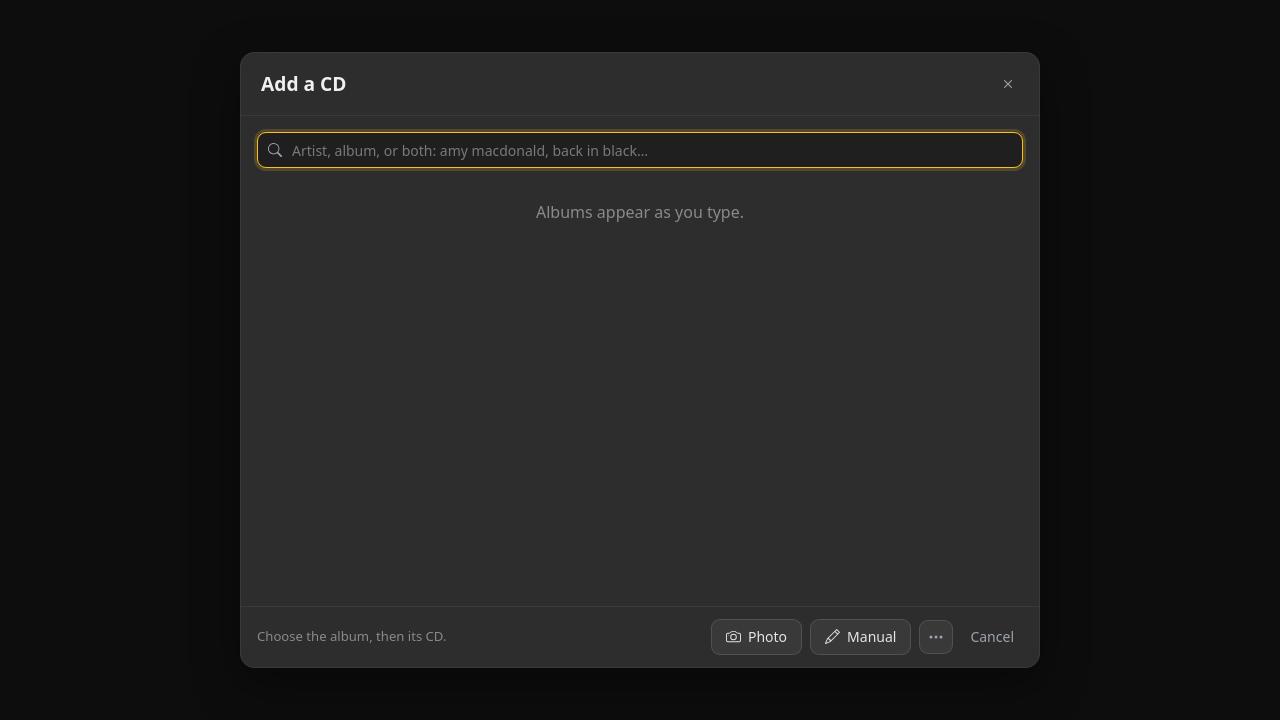
Scenario: AddMusicDialog — empty text search › tells the user when a search found nothing
Click the button named "other searches".
click(936, 637)  # box [919, 620, 953, 654]
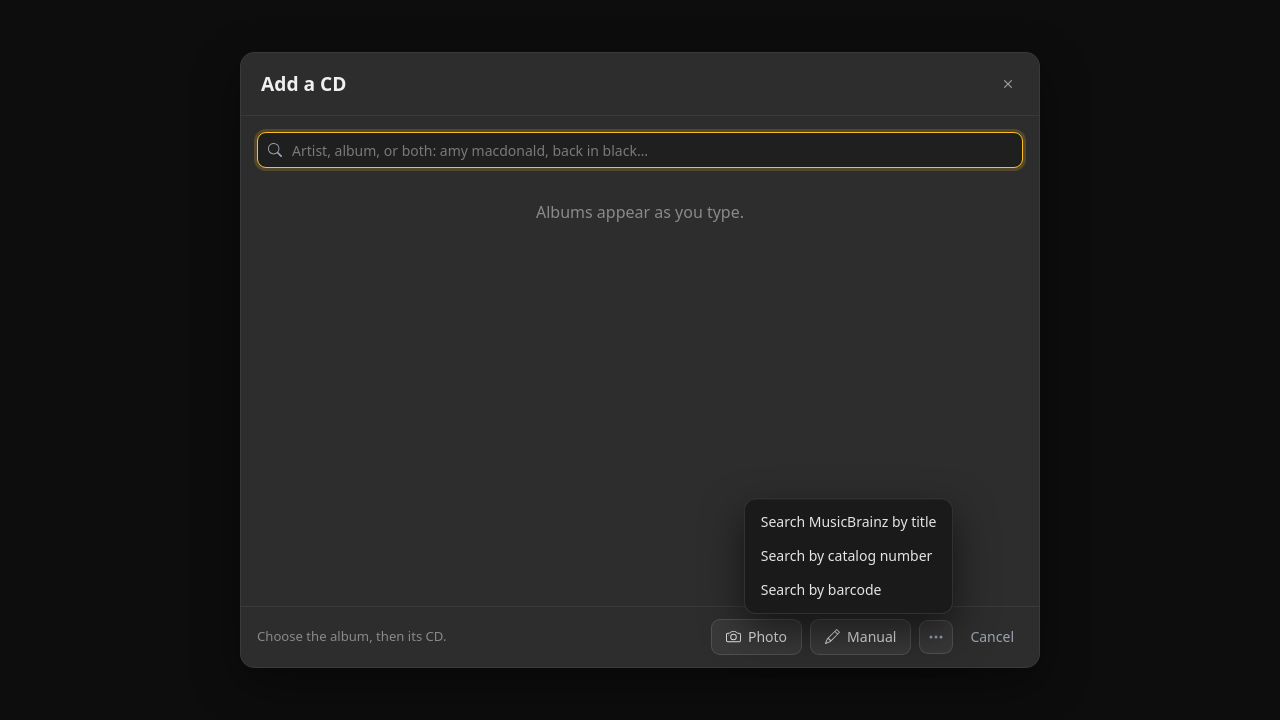
Click the menu item "Search MusicBrainz by title".
click(849, 522)  # box [751, 505, 946, 539]
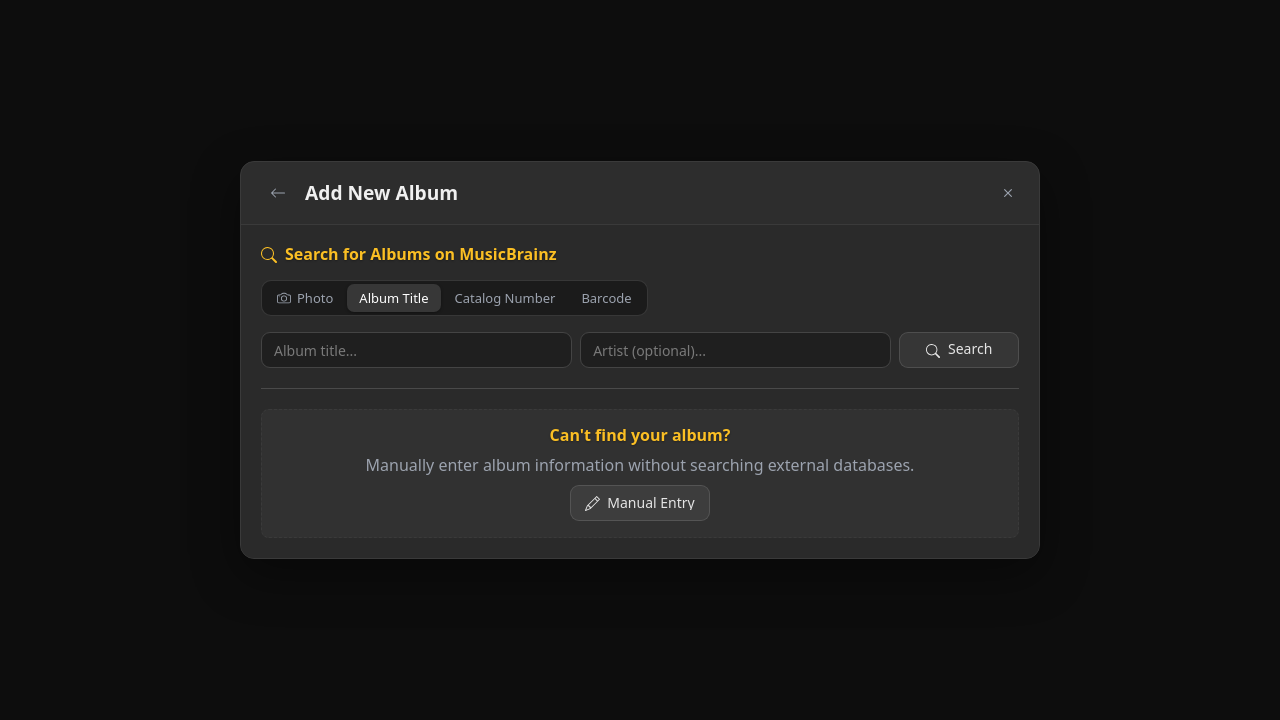
Type "zzzz" into the field with placeholder "Album title...".
click(417, 350); type("zzzz")  # box [261, 332, 572, 368]
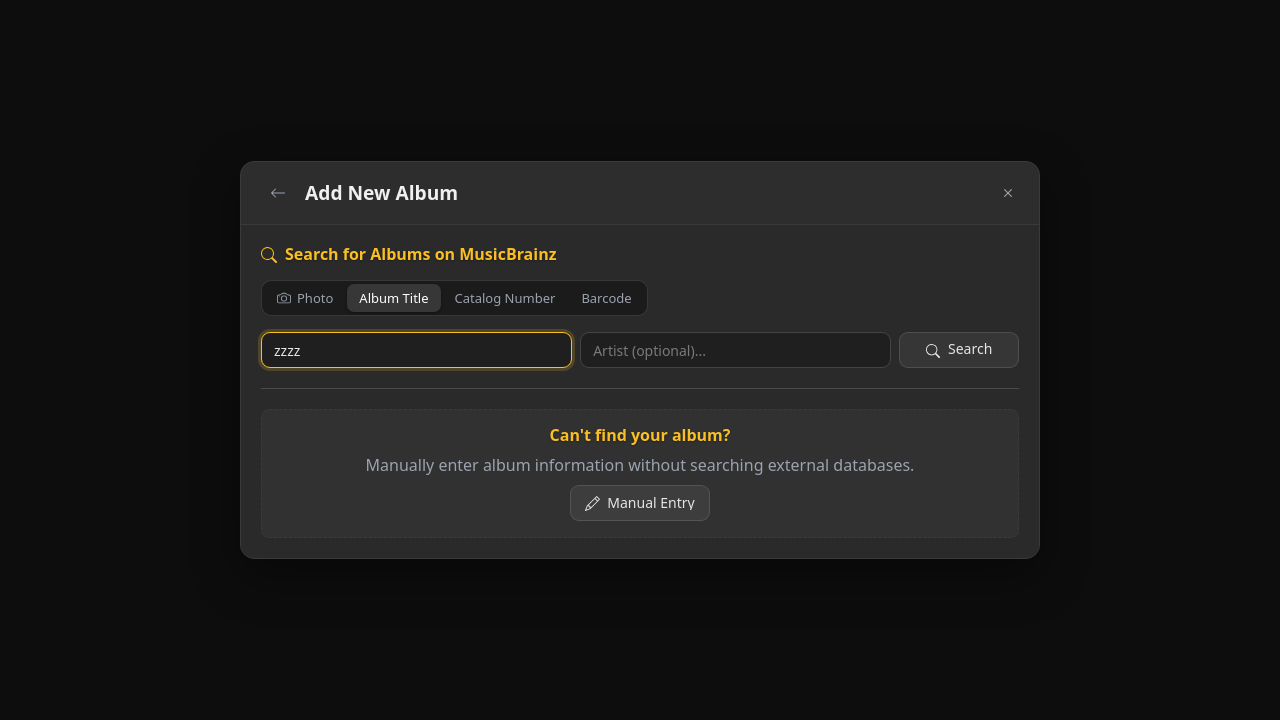
Click the button "Search".
click(959, 350)  # box [899, 332, 1019, 368]
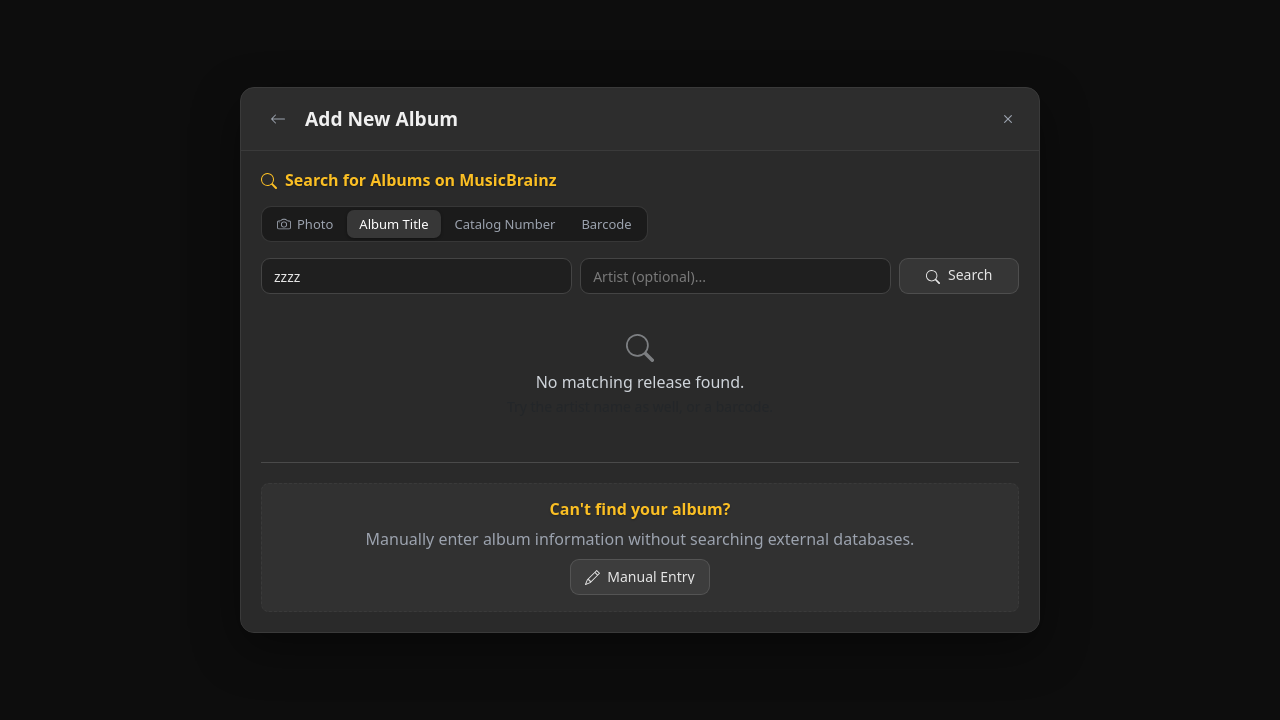
Result: the text "No matching release found." is shown at [536, 371, 744, 393]
